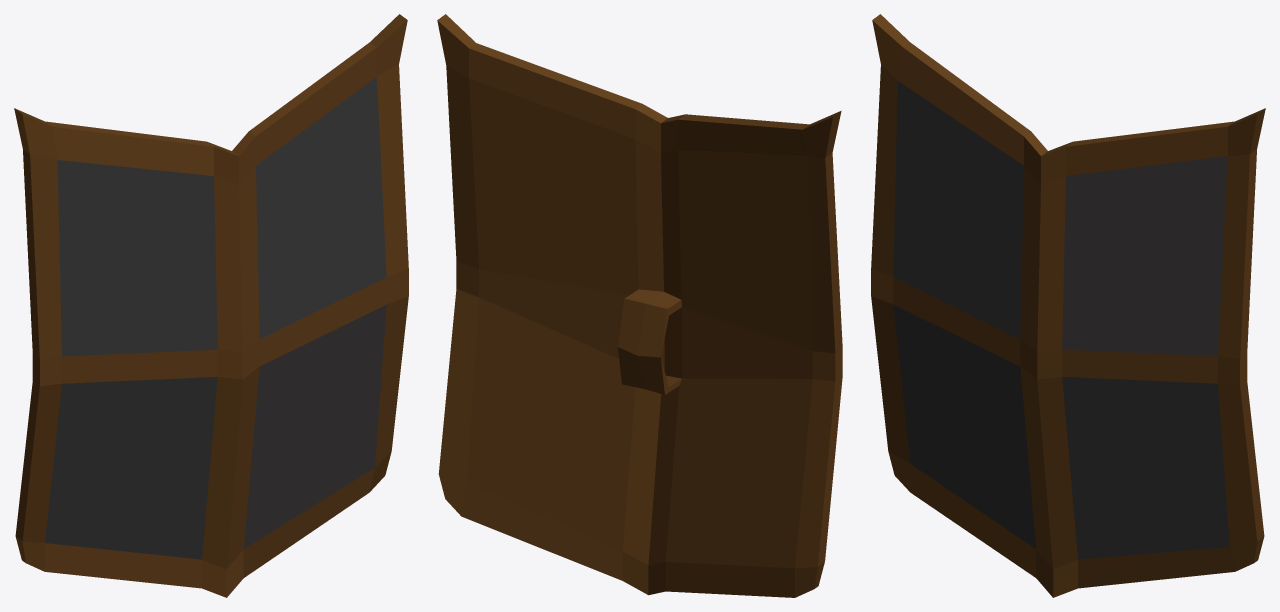
The model's file is IronKiteshield.glb.
3 renders of one model, left to right at view 1: azimuth 30°, elevation 25°; view 2: azimuth 150°, elevation 25°; view 3: azimuth 330°, elevation 25°, orthographic. The views are drawn at different scales.
Parts seen in each view (by area): view 1: Kiteshield; view 2: Kiteshield; view 3: Kiteshield.
Boxes of the visible parts, bbox=[...] form: Kiteshield: bbox=[14, 14, 408, 597]; Kiteshield: bbox=[437, 14, 842, 597]; Kiteshield: bbox=[871, 14, 1265, 597].
Size of the model in its own units: 0.6266 by 0.8115 by 0.12.
